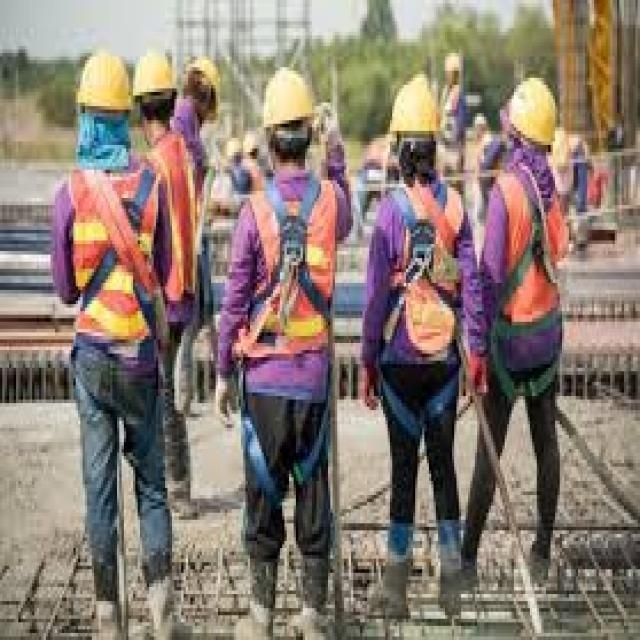Arnes_seguridad: (239, 176, 338, 510), (378, 173, 463, 430), (488, 166, 567, 404), (74, 157, 160, 340)
